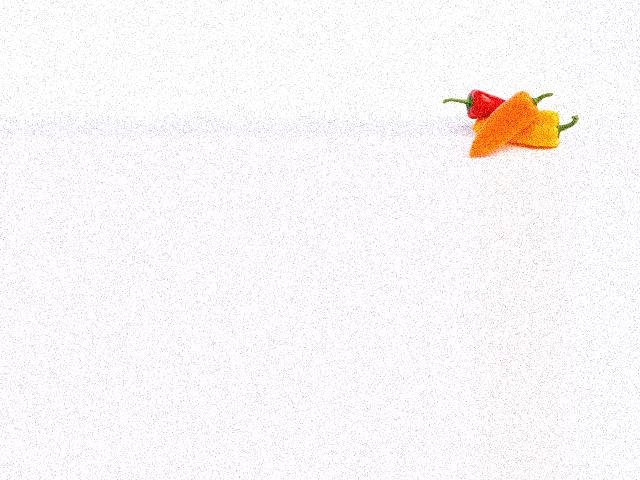bell_pepper: (499, 106, 581, 156)
